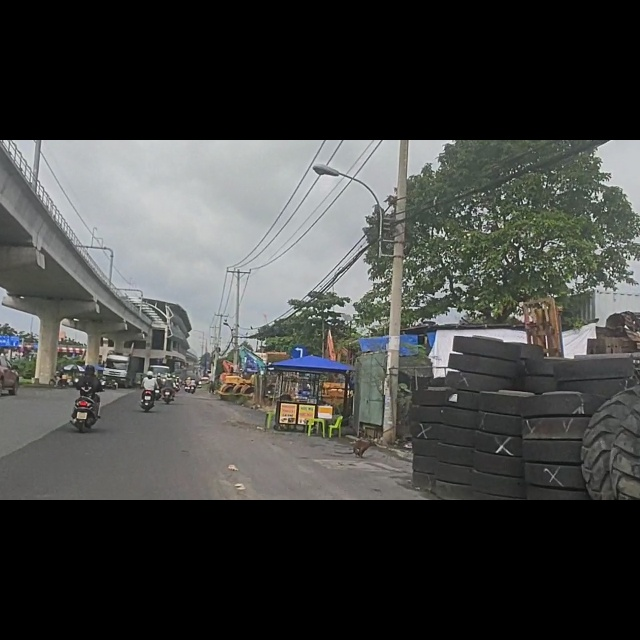bien_chi_dan: (291, 365, 307, 390)
